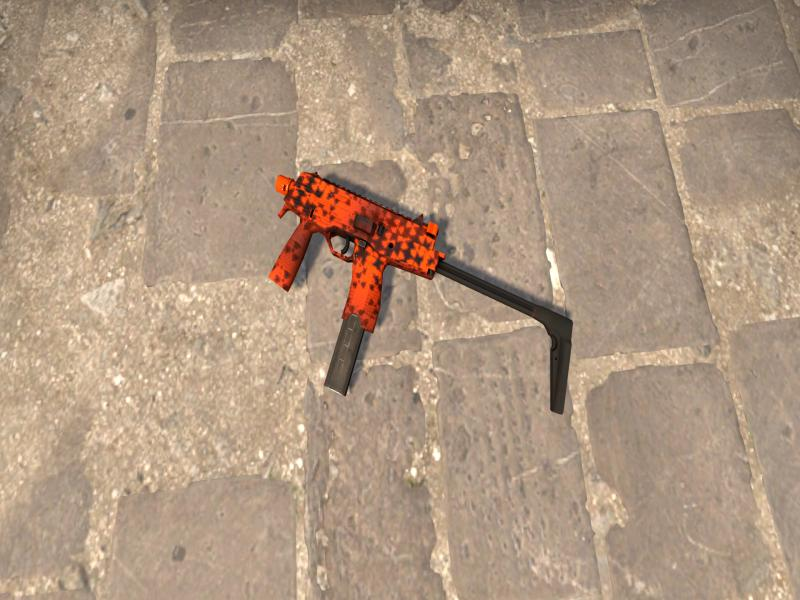MP9: (269, 172, 546, 392), (544, 313, 572, 412)
